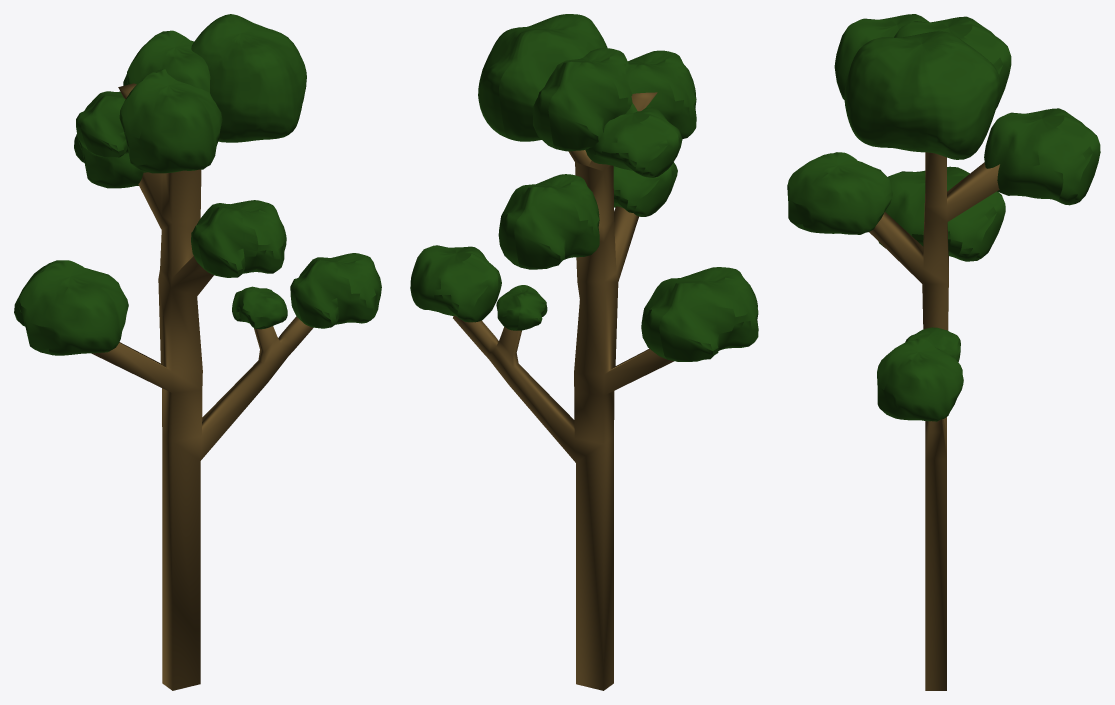
File: tree.gltf
The picture shows the model from 3 angles, left to right: view 1: azimuth 30°, elevation 25°; view 2: azimuth 150°, elevation 25°; view 3: azimuth 270°, elevation 25°; orthographic projection. The views are drawn at different scales.
Parts seen in each view (by area): view 1: Sphere, Cube; view 2: Sphere, Cube; view 3: Sphere, Cube.
Boxes of the visible parts, left/top/right/bottom form: Sphere: left=14, top=14, right=381, bottom=355; Cube: left=91, top=83, right=313, bottom=690; Sphere: left=410, top=14, right=758, bottom=361; Cube: left=453, top=92, right=673, bottom=690; Sphere: left=787, top=14, right=1100, bottom=421; Cube: left=869, top=152, right=999, bottom=690.
Size of the model in its own units: 7.41 by 13.2 by 5.56.
